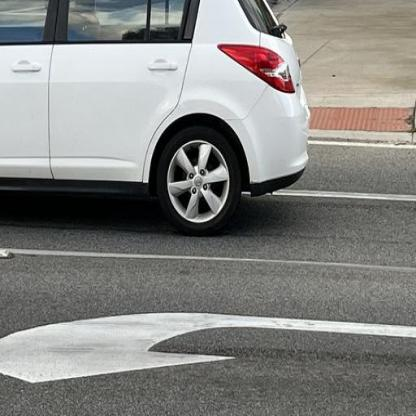Tire: (154, 124, 242, 236)
